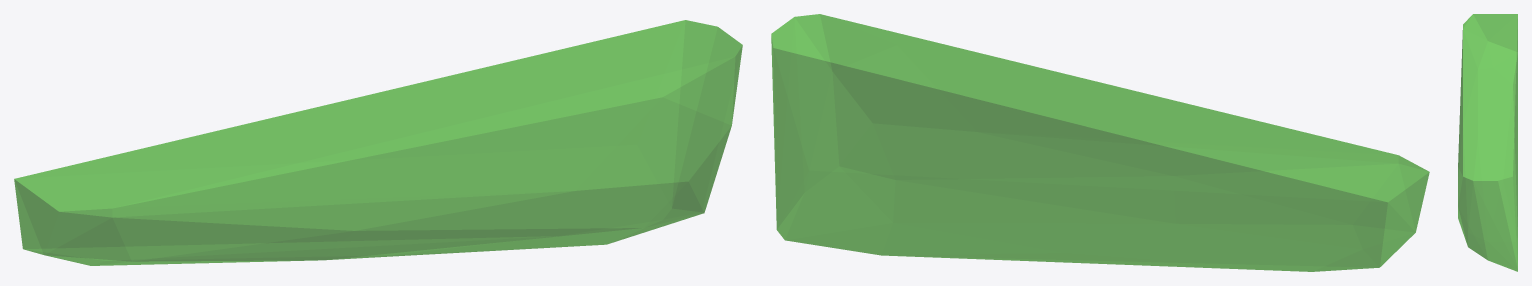
3 renders of one model, left to right at view 1: azimuth 30°, elevation 25°; view 2: azimuth 150°, elevation 25°; view 3: azimuth 270°, elevation 25°, orthographic. The views are drawn at different scales.
Parts seen in each view (by area): view 1: Shape_IndexedFaceSet.014_Shape_IndexedFaceSet.4433; view 2: Shape_IndexedFaceSet.014_Shape_IndexedFaceSet.4433; view 3: Shape_IndexedFaceSet.014_Shape_IndexedFaceSet.4433.
Boxes of the visible parts, x1,y1,x2,y2 form: Shape_IndexedFaceSet.014_Shape_IndexedFaceSet.4433: [14, 20, 742, 265]; Shape_IndexedFaceSet.014_Shape_IndexedFaceSet.4433: [771, 14, 1429, 271]; Shape_IndexedFaceSet.014_Shape_IndexedFaceSet.4433: [1458, 14, 1517, 271].
Size of the model in its own units: 0.0253 by 0.00705 by 0.00385.
